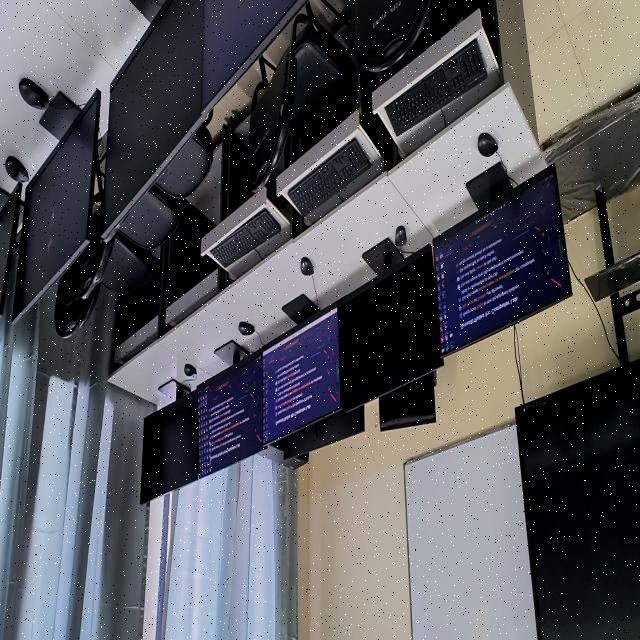Chair: (248, 12, 357, 191), (76, 186, 179, 299), (55, 235, 153, 337), (353, 0, 466, 73), (155, 127, 213, 199), (379, 372, 436, 432)
Cpu: (258, 446, 308, 469)
Digital board: (515, 91, 640, 640), (257, 446, 308, 469)
Keyboard: (385, 41, 487, 135), (288, 138, 371, 217), (211, 209, 281, 268)
Monitor: (433, 162, 571, 356), (100, 0, 206, 244), (12, 90, 101, 321), (336, 239, 443, 411), (263, 295, 341, 444), (201, 0, 298, 109), (195, 343, 263, 478), (141, 380, 199, 504), (272, 406, 364, 459), (0, 184, 22, 320)
Mouse: (19, 79, 49, 110), (5, 157, 29, 183), (477, 133, 498, 157), (300, 257, 314, 277), (395, 226, 407, 247), (238, 322, 255, 336), (184, 364, 197, 378)
